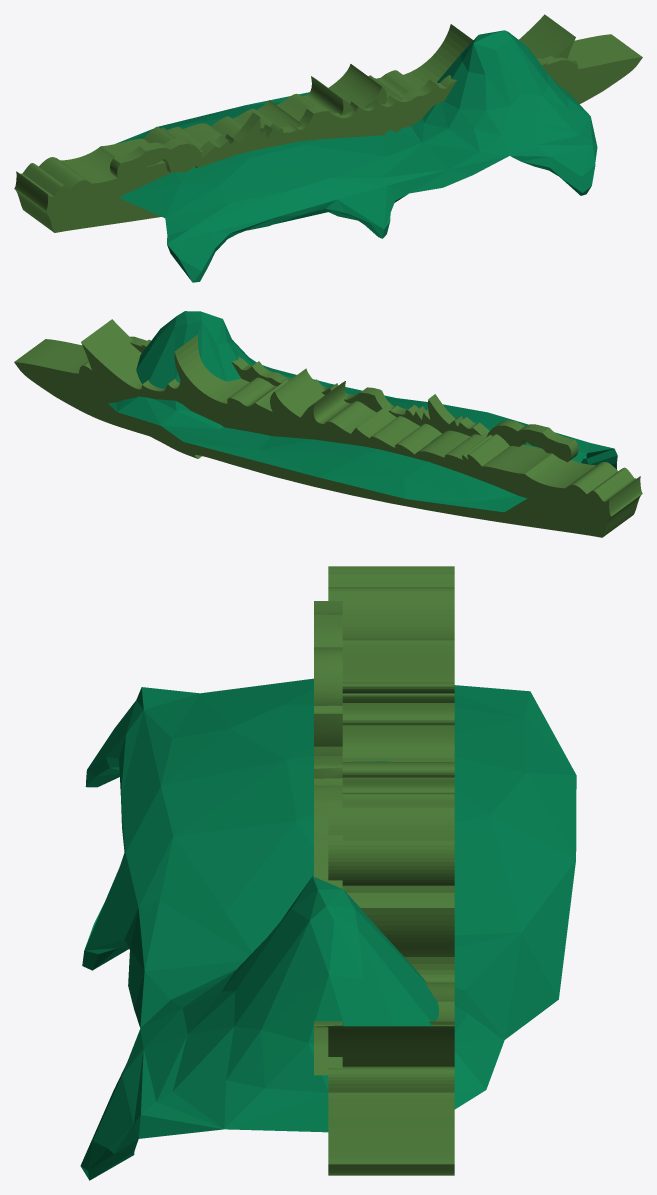
The model's file is grasses.glb.
3 renders of one model, top to bottom at view 1: azimuth 30°, elevation 25°; view 2: azimuth 150°, elevation 25°; view 3: azimuth 270°, elevation 25°, orthographic. The views are drawn at different scales.
Visible parts, largest first — view 1: grass2, grass3, grass; view 2: grass3, grass2, grass; view 3: grass2, grass3, grass.
Part boxes in pixels (left/top/right/bottom): grass2: left=115, top=30, right=597, bottom=282; grass3: left=14, top=14, right=642, bottom=232; grass: left=110, top=56, right=577, bottom=181; grass3: left=14, top=319, right=642, bottom=537; grass2: left=108, top=311, right=617, bottom=512; grass: left=130, top=336, right=578, bottom=462; grass2: left=80, top=678, right=576, bottom=1180; grass3: left=328, top=566, right=454, bottom=1175; grass: left=314, top=601, right=342, bottom=1075.
Bounding box in the file's own units: 2.19 × 0.4491 × 0.7874.
